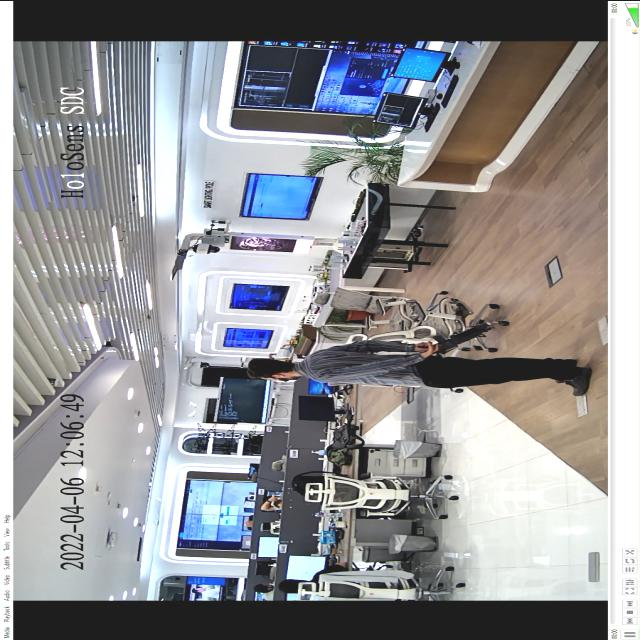long weapon: (409, 320, 495, 360)
